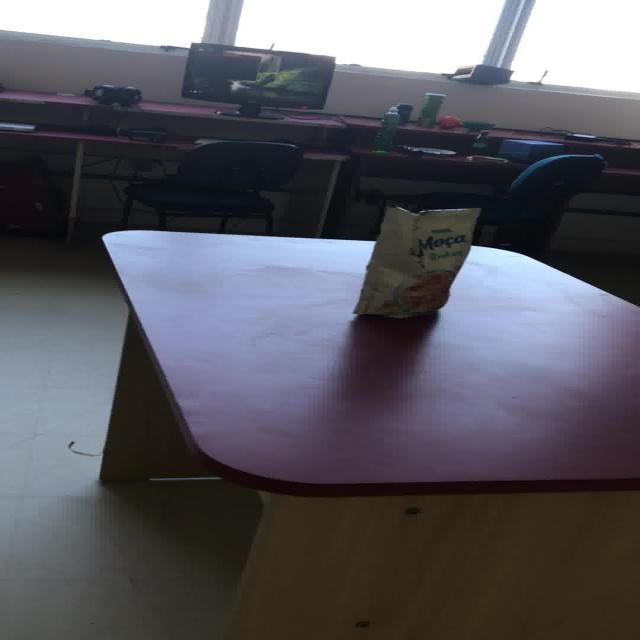corn flakes: (351, 202, 481, 318), (416, 92, 444, 127)
